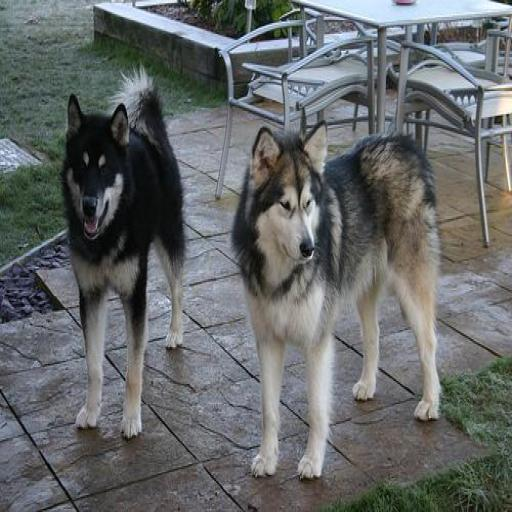dog_face: (253, 120, 326, 273), (61, 91, 128, 239)
